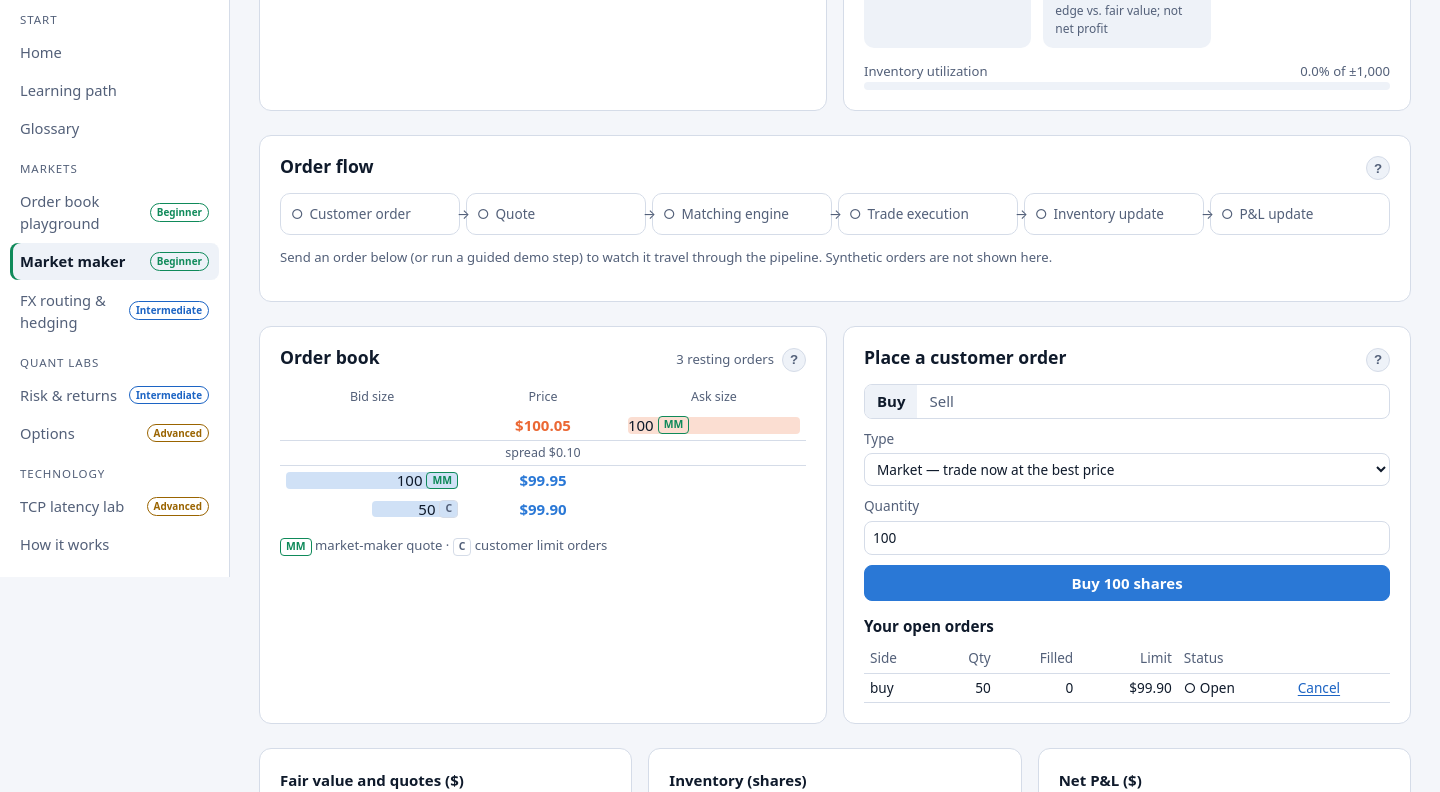
Test: Market maker page › submits an order with an Idempotency-Key and shows the backend's explanation and status
(page scrolled)
Check: the heading "Place a customer order" is shown, box [864,347,1066,368]
Step 1. Click the button "Sell" → (942, 402), box [918,385,966,418]
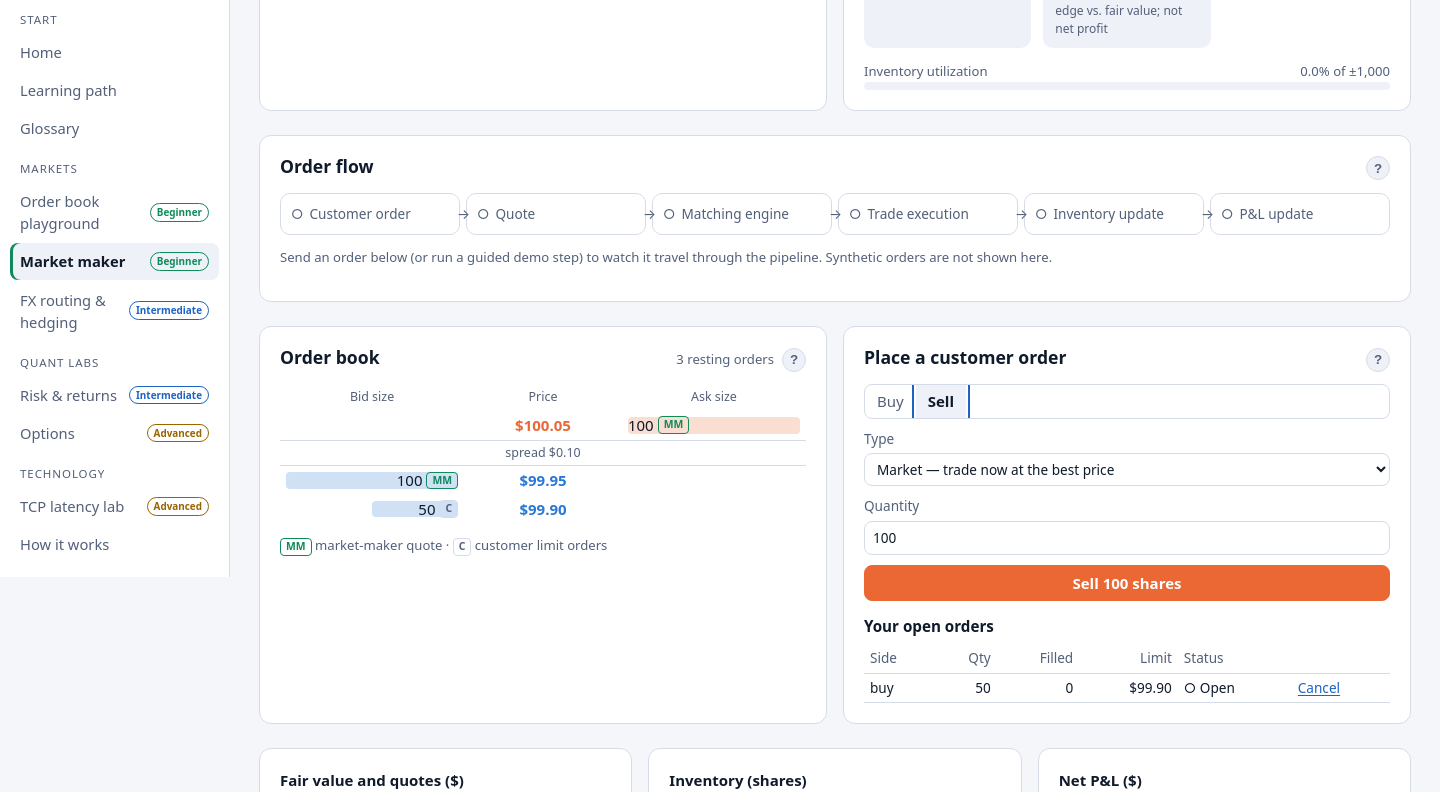
Step 2. Click the button "Sell 100 shares" → (1127, 583), box [864,565,1390,602]
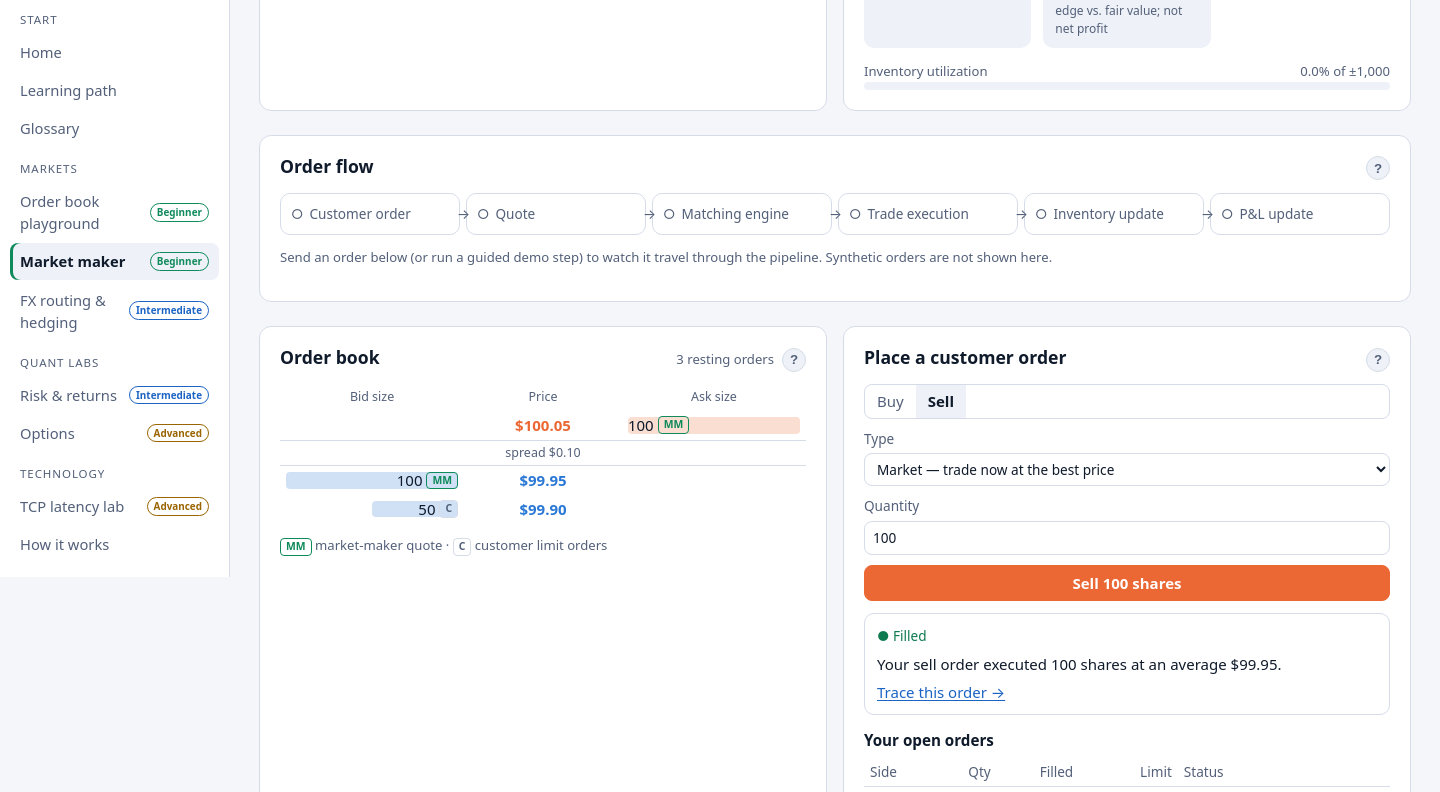
Check: the text "Your sell order executed 100 shares at an average $99.95." is shown, box [877,654,1282,674]
Check: the text "Filled" is shown, box [893,626,927,646]
